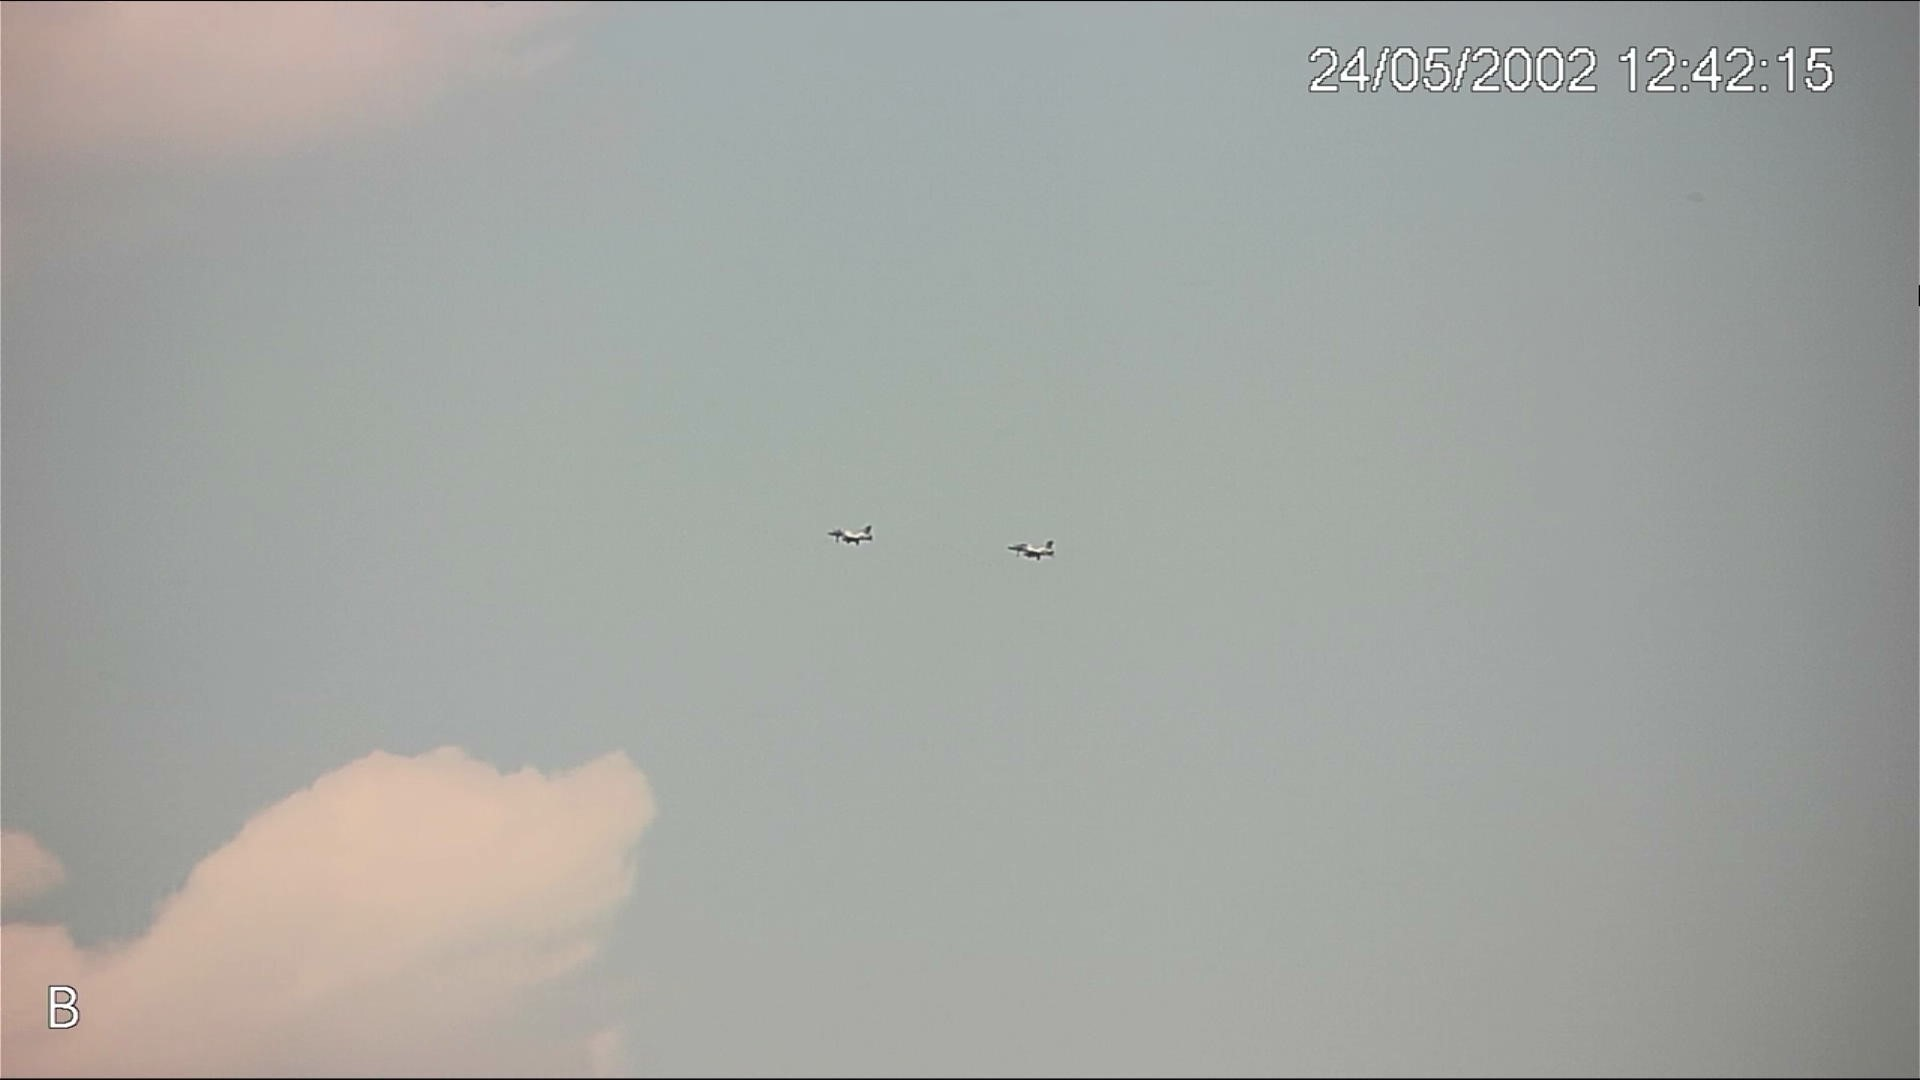SU_30: (1006, 539, 1055, 563), (828, 524, 873, 546)
